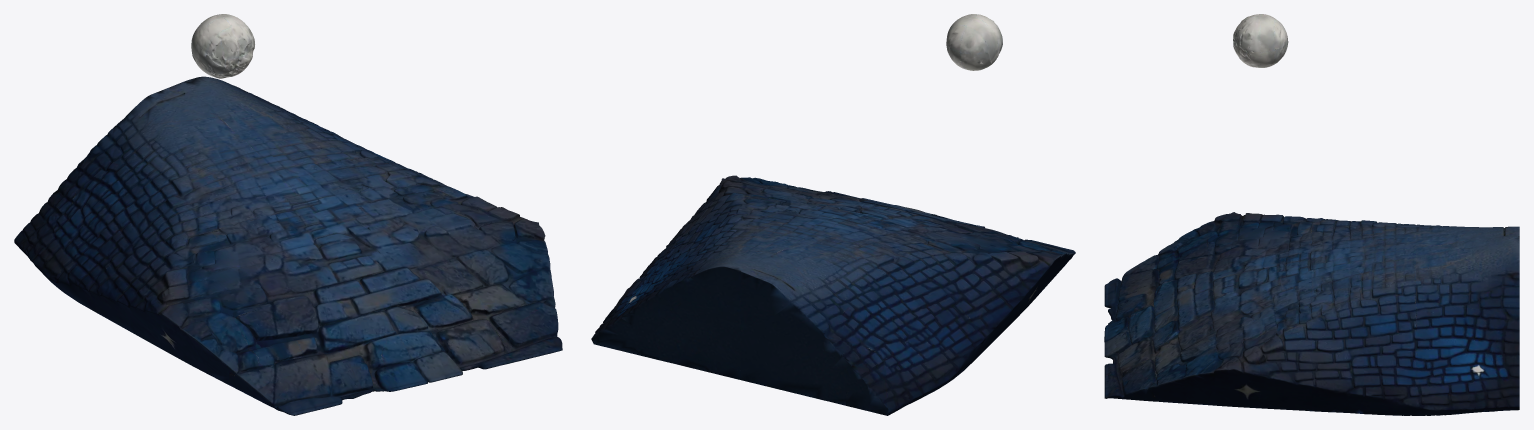
The model's file is pathway.glb.
The picture shows the model from 3 angles, left to right: view 1: azimuth 30°, elevation 25°; view 2: azimuth 150°, elevation 25°; view 3: azimuth 270°, elevation 25°; orthographic projection. The views are drawn at different scales.
Parts seen in each view (by area): view 1: geometry_0; view 2: geometry_0; view 3: geometry_0.
Part boxes in pixels (x1=…): geometry_0: x1=14, y1=14, x2=562, y2=415; geometry_0: x1=591, y1=14, x2=1075, y2=415; geometry_0: x1=1104, y1=14, x2=1519, y2=415.
Size of the model in its own units: 0.8928 by 0.7449 by 0.9999.
Materials: 1 (1 with a texture image).
